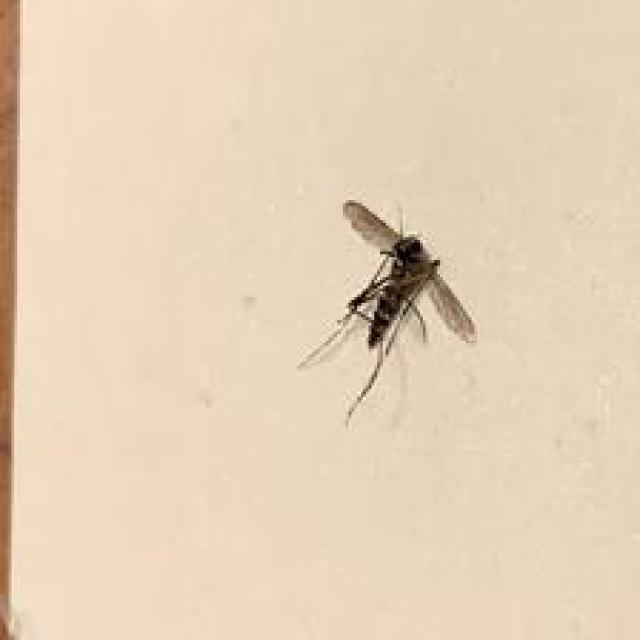Aedes albopictus: (297, 197, 477, 429)
